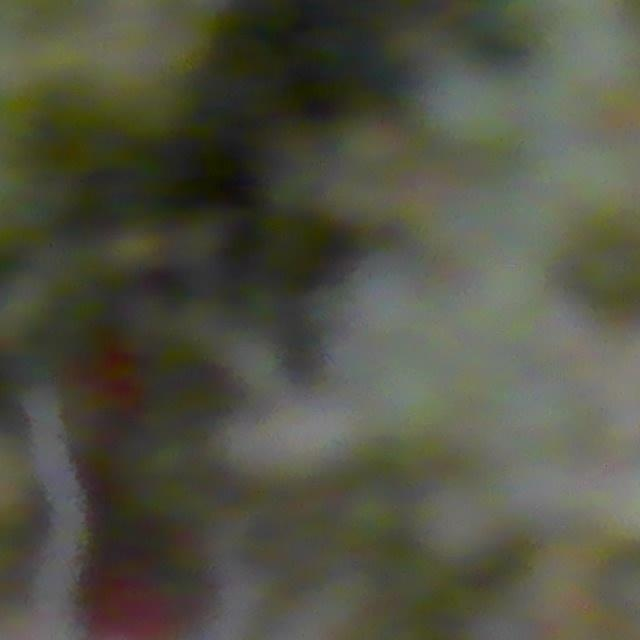SeaGrape: (418, 60, 519, 153)
